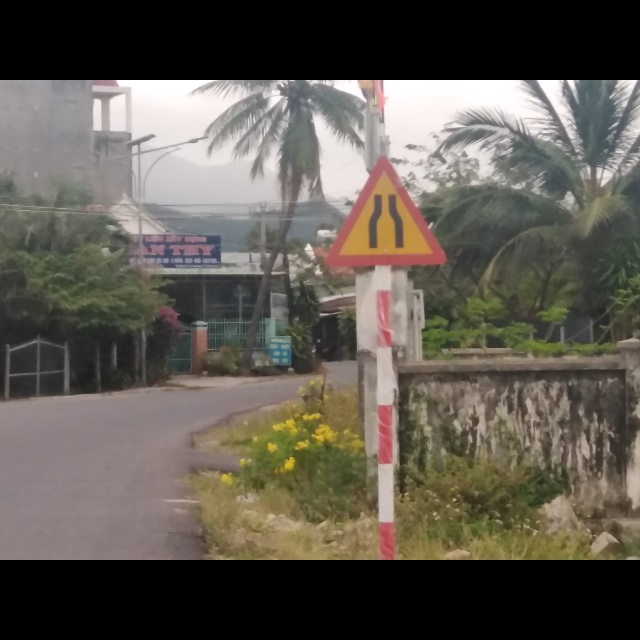Đường bị hẹp cả hai bên: (324, 152, 448, 267)
